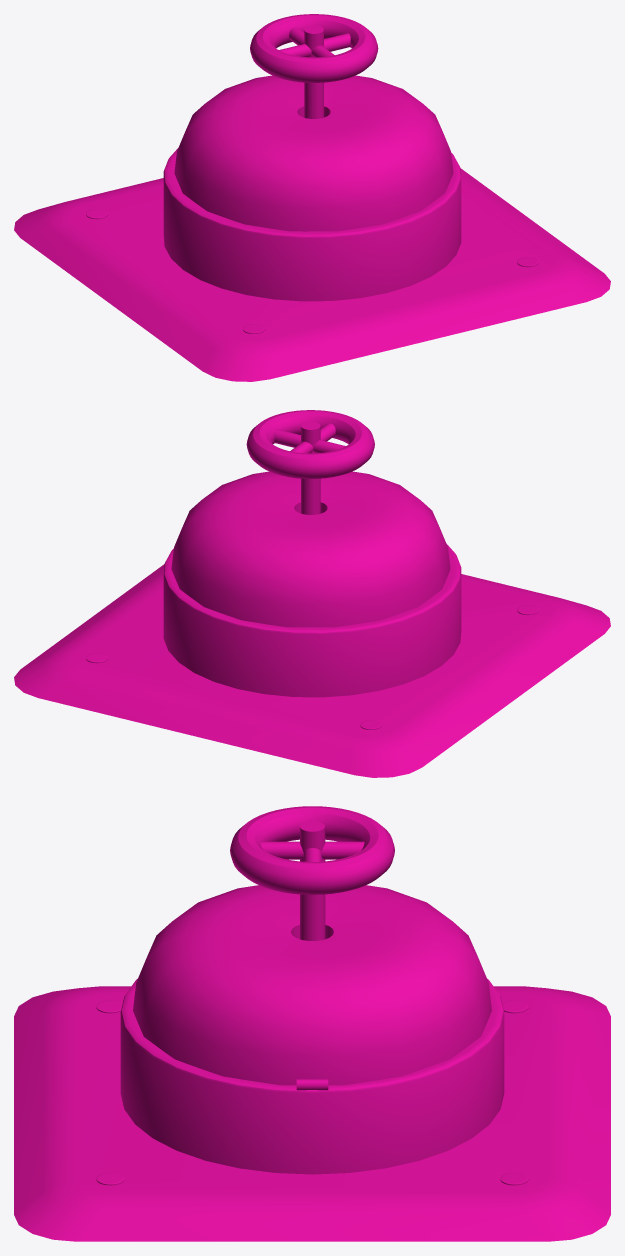
File: Anger Station.fbx
3 views of the same model, one above another, from view 1: azimuth 30°, elevation 25°; view 2: azimuth 150°, elevation 25°; view 3: azimuth 270°, elevation 25° (orthographic). The views are drawn at different scales.
Parts seen in each view (by area): view 1: Base.001, Sphere, Chamber.001, Sphere.001, Bolts.001; view 2: Base.001, Sphere, Chamber.001, Sphere.001, Bolts.001; view 3: Base.001, Sphere, Chamber.001, Sphere.001, Bolts.001.
Boxes of the visible parts, <box> form: Base.001: <box>14,168,610,381</box>; Sphere: <box>174,75,453,231</box>; Chamber.001: <box>163,148,461,301</box>; Sphere.001: <box>250,14,378,118</box>; Bolts.001: <box>86,209,538,333</box>; Base.001: <box>14,564,610,777</box>; Sphere: <box>171,471,450,627</box>; Chamber.001: <box>163,544,461,697</box>; Sphere.001: <box>246,410,374,514</box>; Bolts.001: <box>86,605,538,729</box>; Base.001: <box>14,986,610,1241</box>; Sphere: <box>133,885,491,1085</box>; Chamber.001: <box>120,978,504,1174</box>; Sphere.001: <box>230,806,394,940</box>; Bolts.001: <box>96,1000,528,1185</box>.
Size of the model in its own units: 418 by 224 by 418.
